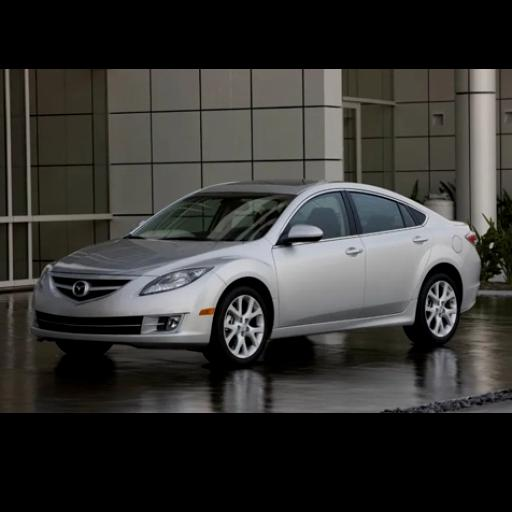sedan: (30, 179, 479, 365)
